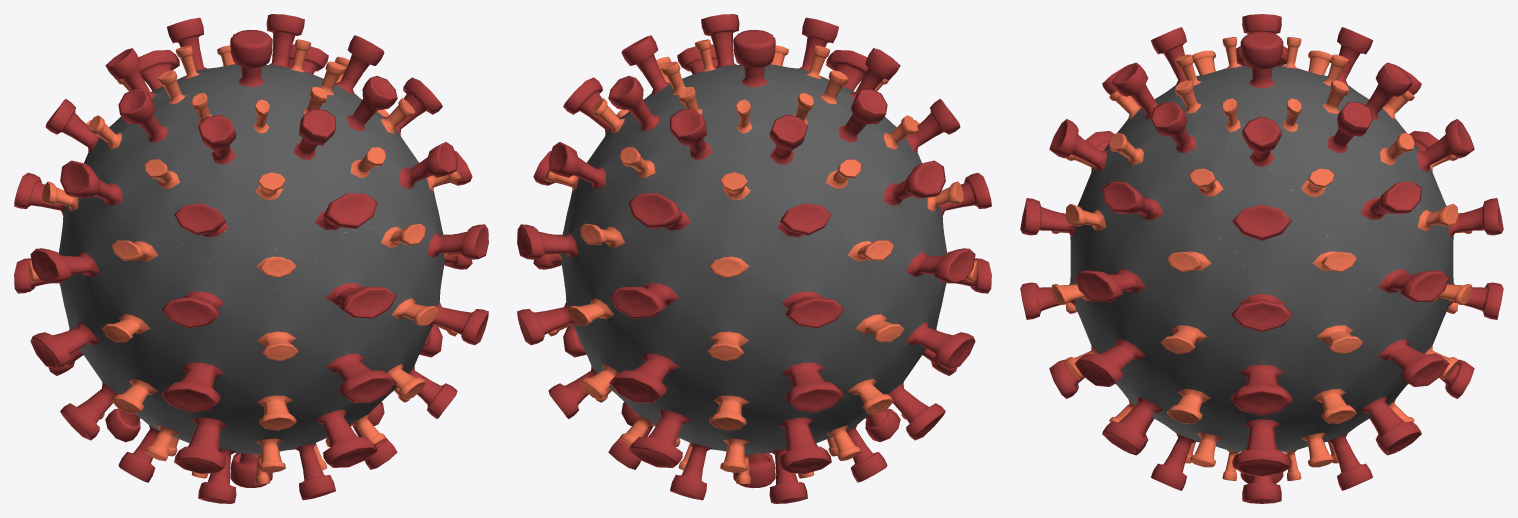
The model's file is COVID19VirusFinalwithAnimation.fbx.
3 renders of one model, left to right at view 1: azimuth 30°, elevation 25°; view 2: azimuth 150°, elevation 25°; view 3: azimuth 270°, elevation 25°, orthographic.
Parts seen in each view (by area): view 1: bodyGrey, bigRed, smallOrange; view 2: bodyGrey, bigRed, smallOrange; view 3: bodyGrey, bigRed, smallOrange.
Boxes of the visible parts, <box> form: bodyGrey: <box>58,64,444,454</box>; bigRed: <box>14,14,488,503</box>; smallOrange: <box>28,34,462,484</box>; bodyGrey: <box>561,64,947,454</box>; bigRed: <box>517,14,991,503</box>; smallOrange: <box>543,34,977,484</box>; bodyGrey: <box>1070,66,1453,451</box>; bigRed: <box>1020,14,1503,503</box>; smallOrange: <box>1051,37,1472,480</box>.
Size of the model in its own units: 1.49 by 1.5 by 1.49.
1 material, 1 textured.
